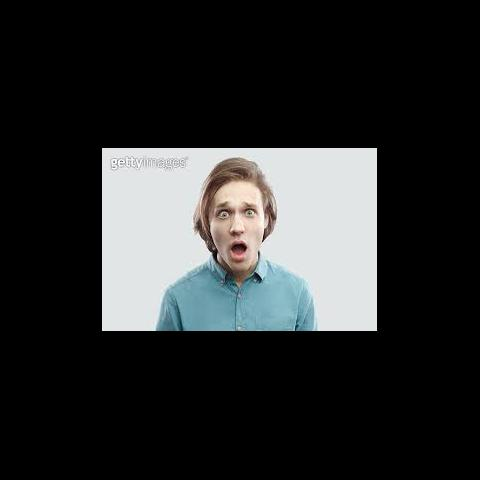opened: (216, 202, 258, 223)
